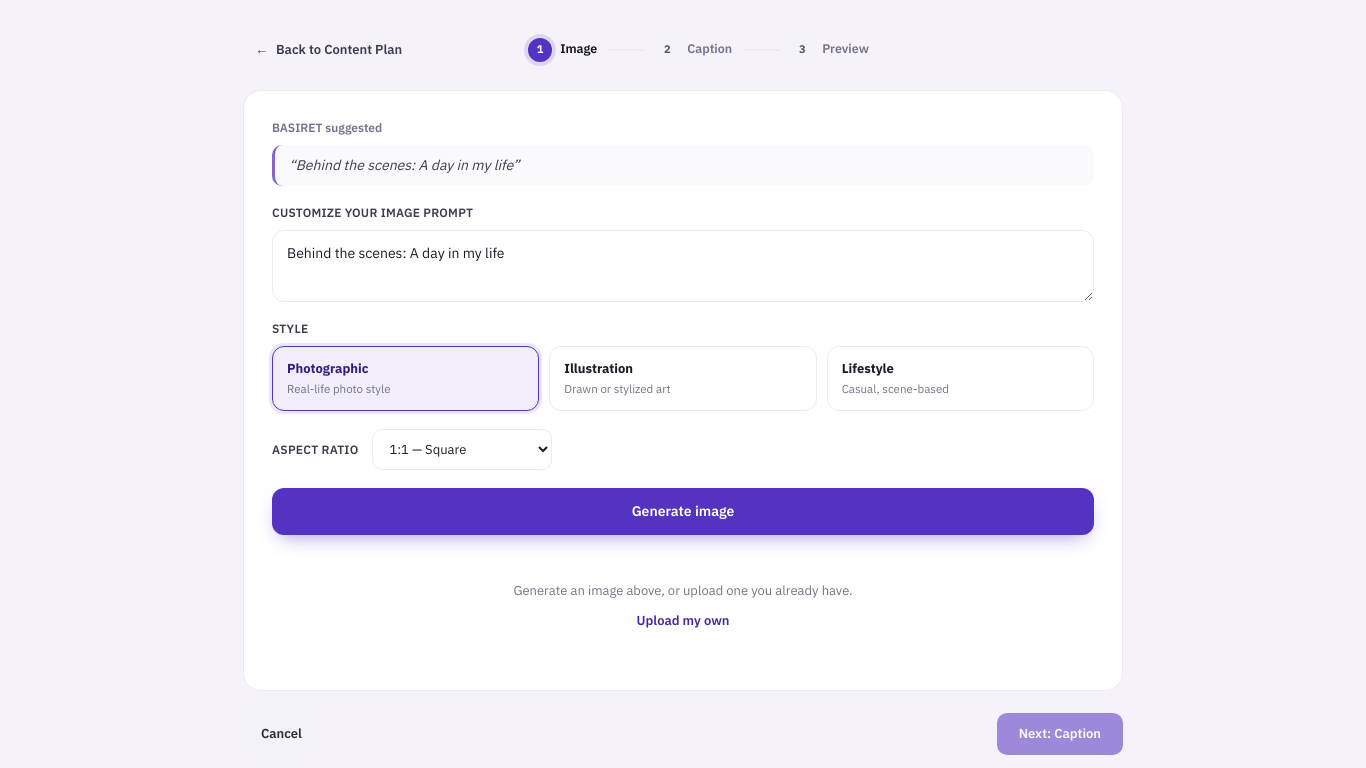
Test: Step indicator › advances on Next once an image exists (Next is gated by image_url)
This screenshot has width=1366, height=768.
Expected: the button with test id "wizard-next" is disabled, [997,713,1123,755]
Click the button with test id "image-generate": x=683, y=512 [272,488,1094,535]
(page scrolled)
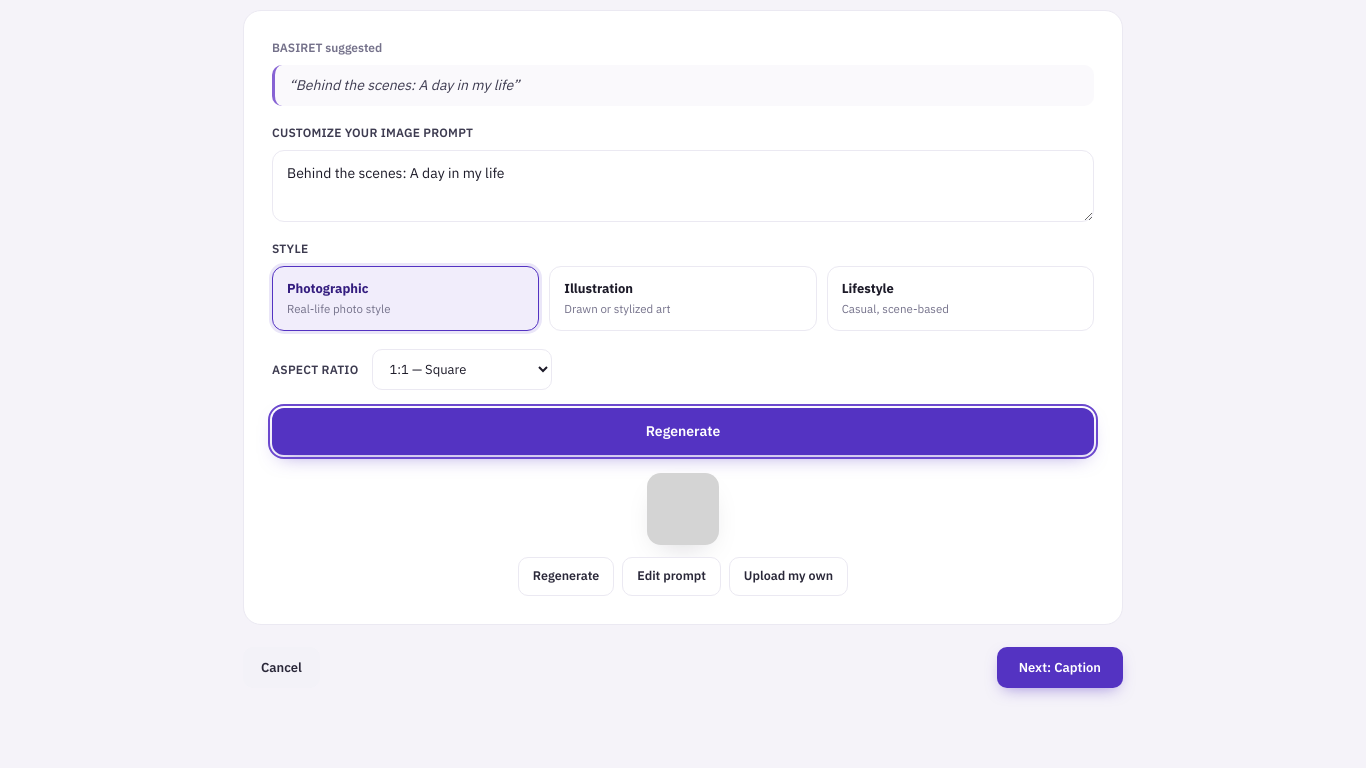
Now the button with test id "wizard-next" is enabled
Click the button with test id "wizard-next": x=1060, y=668 [997,647,1123,688]
(page scrolled)
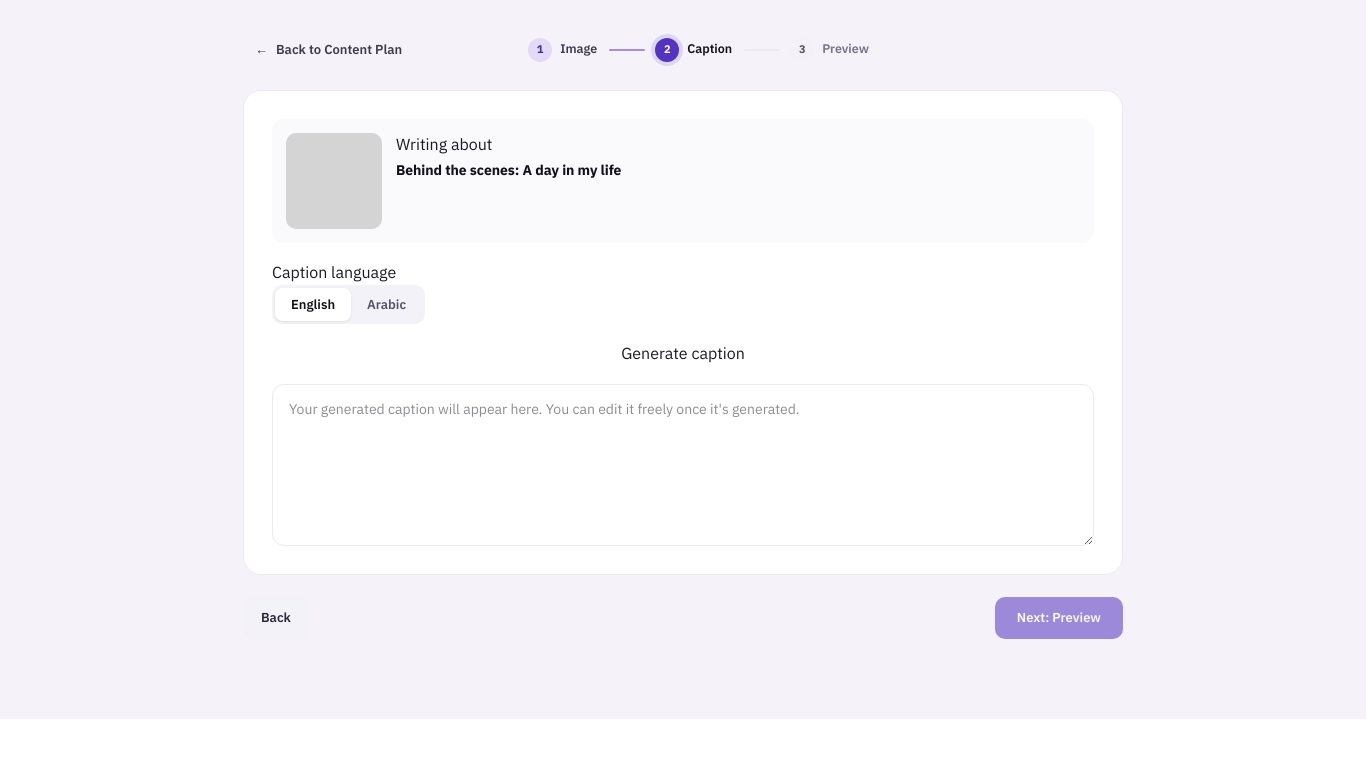
Now the element with test id "wizard-step-caption" is shown, box [272,118,1094,546]
